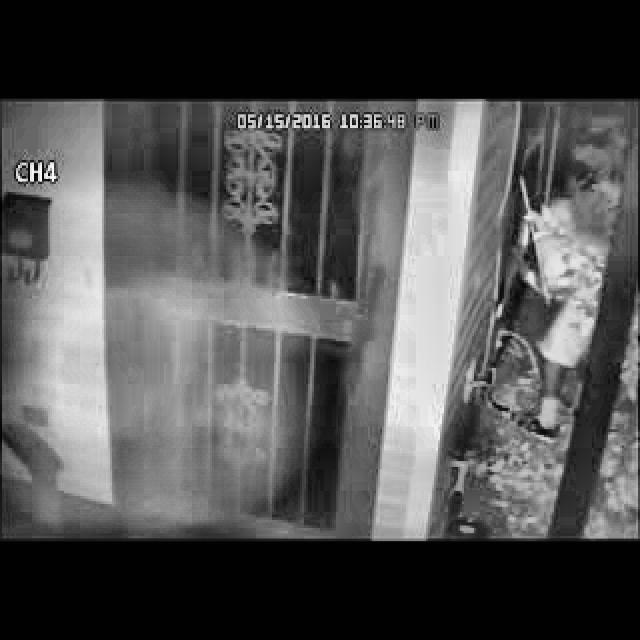burglary: (481, 188, 621, 448)
